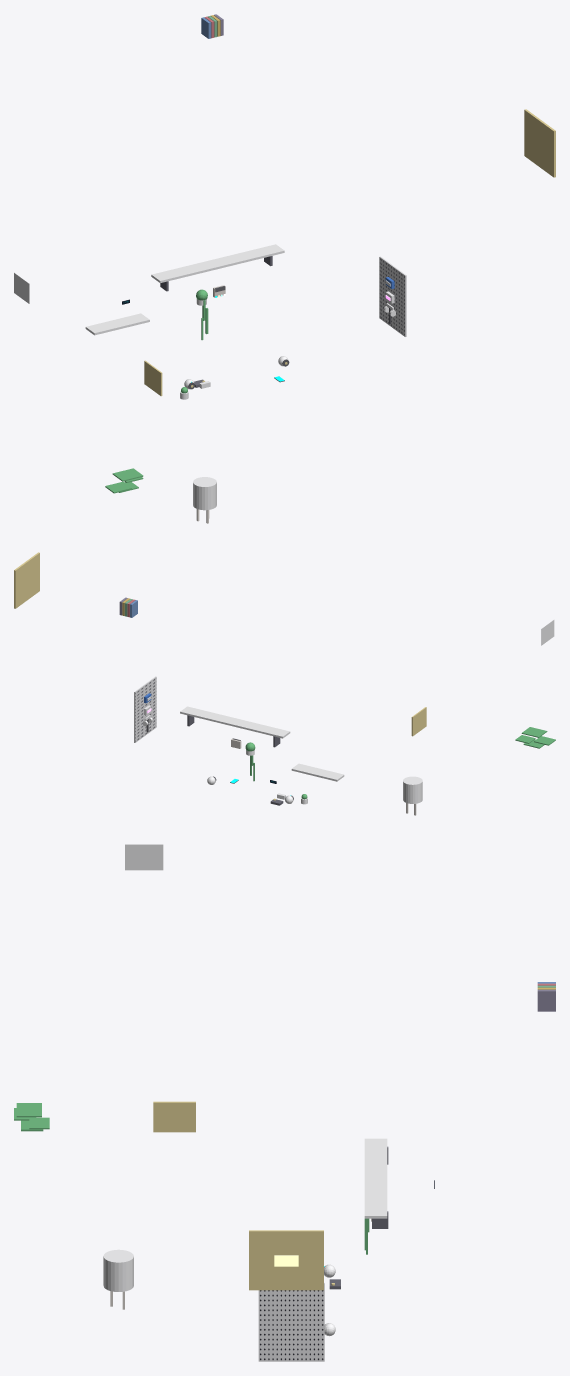
Rendered from group-b-props.glb.
3 views of the same model, one above another, from view 1: azimuth 30°, elevation 25°; view 2: azimuth 150°, elevation 25°; view 3: azimuth 270°, elevation 25° (orthographic). The views are drawn at different scales.
Visible parts, largest first — view 1: painting_frame, pegboard_panel, shelf_rear_upper, pot_monstera, shelf_rear_lower; view 2: painting_frame, pegboard_panel, shelf_rear_upper, pot_monstera, shelf_rear_lower; view 3: pegboard_panel, painting_frame, shelf_rear_upper, certificate_frame, pot_monstera, certificate_glass.
Part boxes in pixels (x1=…): painting_frame: x1=524, y1=109, x2=555, y2=177; pegboard_panel: x1=379, y1=256, x2=406, y2=336; shelf_rear_upper: x1=151, y1=244, x2=284, y2=283; pot_monstera: x1=193, y1=477, x2=216, y2=510; shelf_rear_lower: x1=85, y1=313, x2=149, y2=335; painting_frame: x1=14, y1=552, x2=39, y2=608; pegboard_panel: x1=134, y1=676, x2=156, y2=742; shelf_rear_upper: x1=180, y1=706, x2=290, y2=738; pot_monstera: x1=403, y1=776, x2=422, y2=803; shelf_rear_lower: x1=291, y1=763, x2=344, y2=781; pegboard_panel: x1=258, y1=1282, x2=324, y2=1361; painting_frame: x1=249, y1=1230, x2=323, y2=1290; shelf_rear_upper: x1=364, y1=1138, x2=387, y2=1218; certificate_frame: x1=153, y1=1101, x2=195, y2=1132; pot_monstera: x1=103, y1=1249, x2=133, y2=1291; certificate_glass: x1=125, y1=844, x2=163, y2=870.
Bounding box in the file's own units: 8.32 × 4.65 × 5.33.
27 materials, 3 textured.
